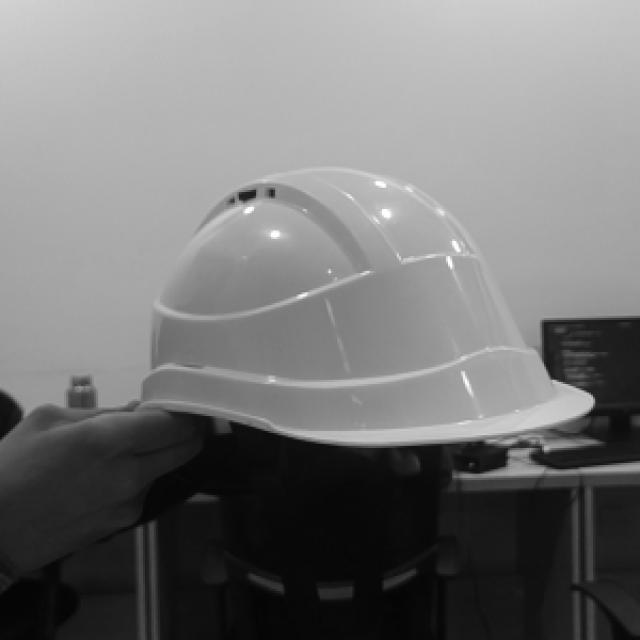safety_helmet: (139, 166, 595, 448)
